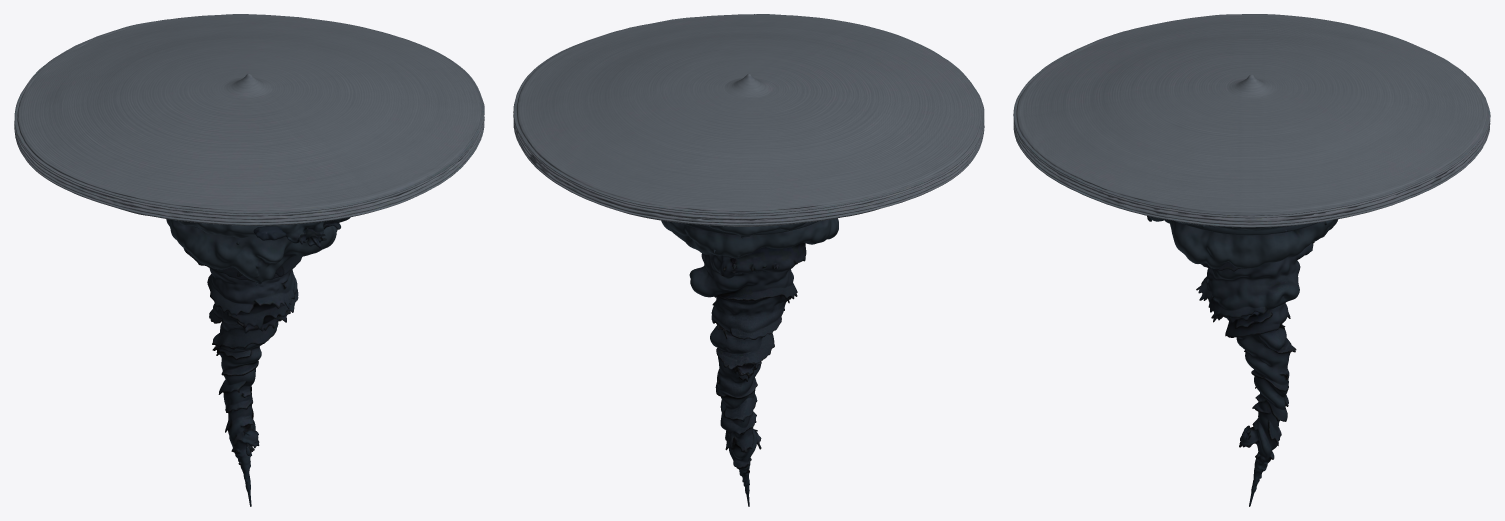
The model's file is tornado-3d-model-c871048e.glb.
3 views of the same model, side by side, from view 1: azimuth 30°, elevation 25°; view 2: azimuth 150°, elevation 25°; view 3: azimuth 270°, elevation 25° (orthographic).
Parts seen in each view (by area): view 1: tripo_node_4fad5cc0-52c2-4f7d-b53e-72e17e8b2256; view 2: tripo_node_4fad5cc0-52c2-4f7d-b53e-72e17e8b2256; view 3: tripo_node_4fad5cc0-52c2-4f7d-b53e-72e17e8b2256.
Part boxes in pixels (x1,y1,x2,y2): tripo_node_4fad5cc0-52c2-4f7d-b53e-72e17e8b2256: (14,14,484,506); tripo_node_4fad5cc0-52c2-4f7d-b53e-72e17e8b2256: (513,14,984,506); tripo_node_4fad5cc0-52c2-4f7d-b53e-72e17e8b2256: (1013,14,1490,506).
Bounding box in the file's own units: 1 × 0.997 × 0.9987.
Materials: 1 (1 with a texture image).
